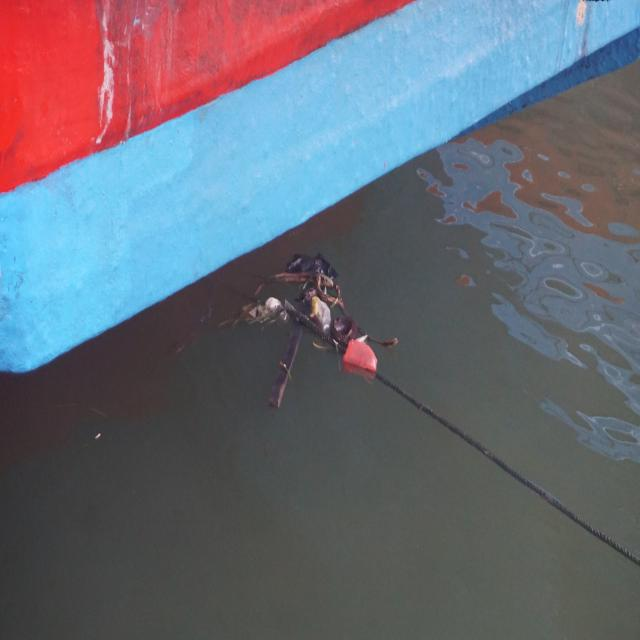Kantong Plastik: (284, 248, 339, 292), (342, 340, 381, 379)
